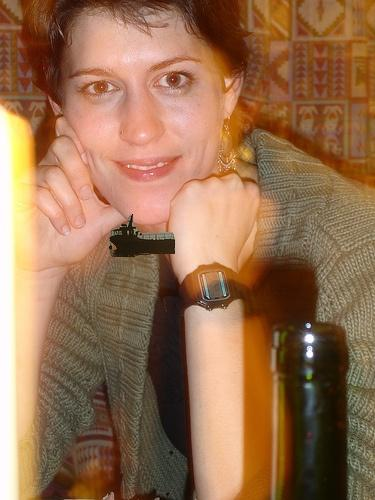tampered: (110, 215, 175, 257)
